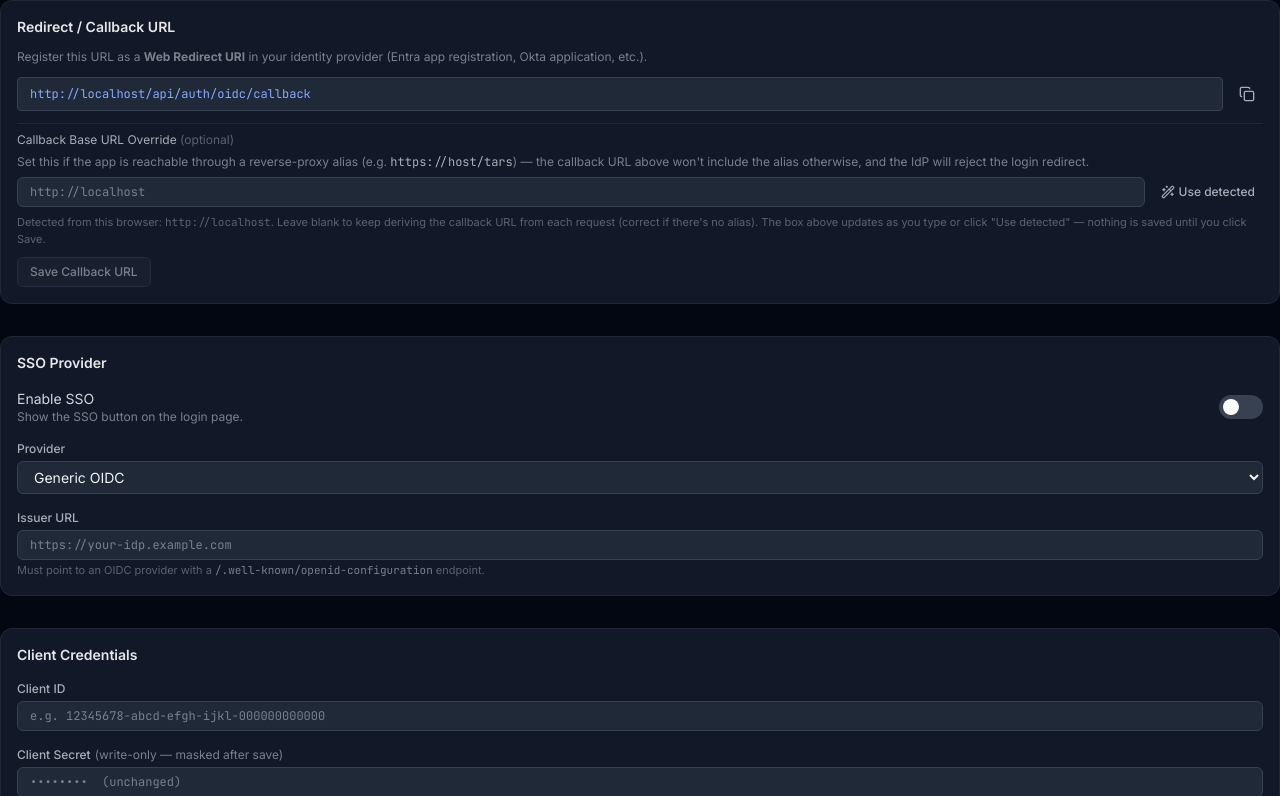
Test case: SsoConfigTab callback_base_url override (issue-local-036) › "Use detected" fills the field with the browser-detected base URL
This screenshot has width=1280, height=796.
Click the button "Use detected".
click(1208, 192)  # box [1153,176,1263,208]
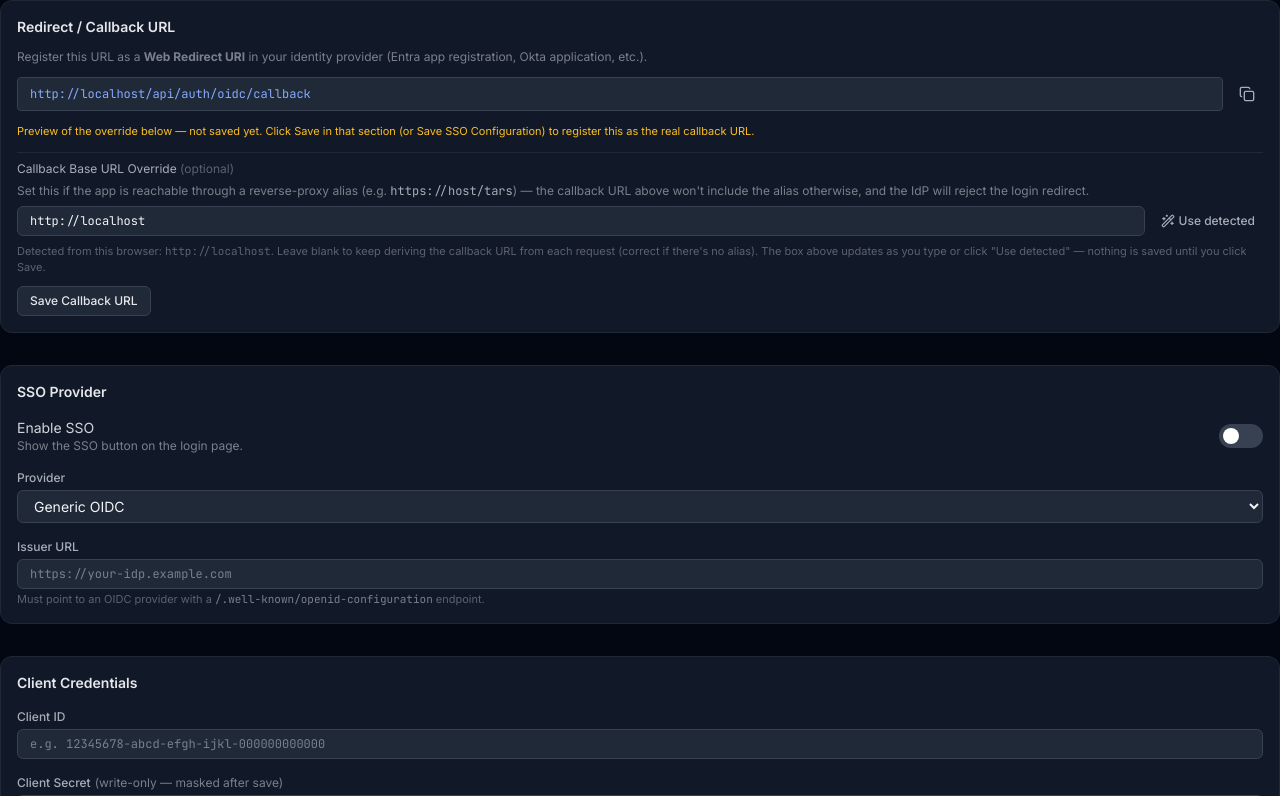
Expected: the field showing "http://localhost" is shown, [17,206,1145,236]
